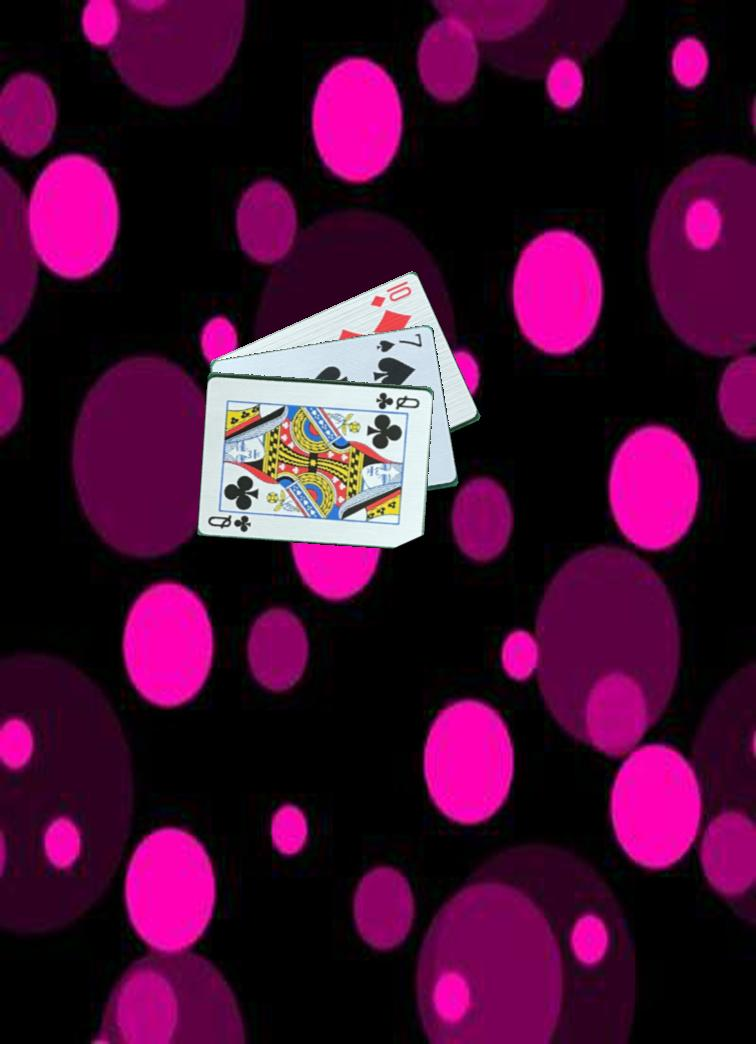7s: (373, 329, 426, 355)
qc: (204, 511, 254, 535), (373, 389, 423, 411)
td: (367, 282, 415, 310)
